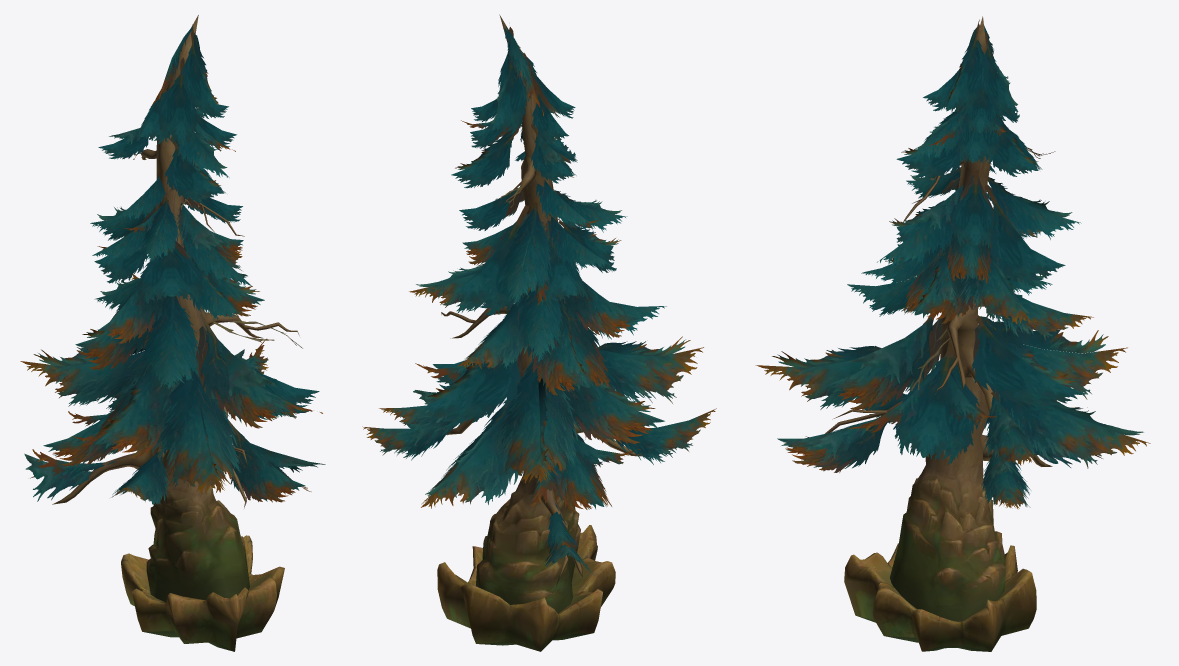
3 views of the same model, side by side, from view 1: azimuth 30°, elevation 25°; view 2: azimuth 150°, elevation 25°; view 3: azimuth 270°, elevation 25° (orthographic). The views are drawn at different scales.
Size of the model in its own units: 15.94 by 34.91 by 20.75.
3 materials, 3 textured.
